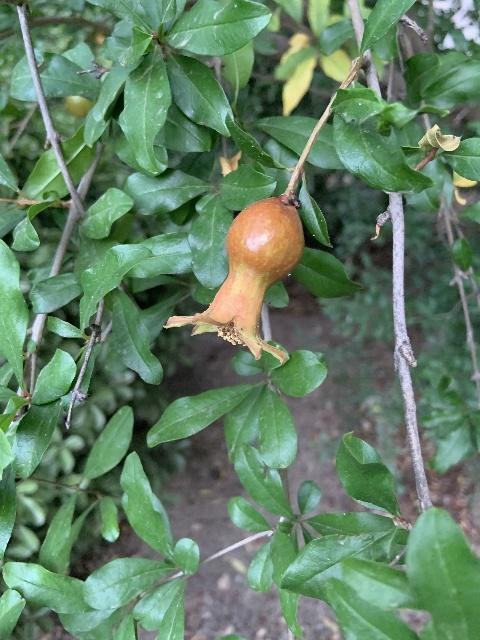early-fruit: (162, 197, 305, 364)
